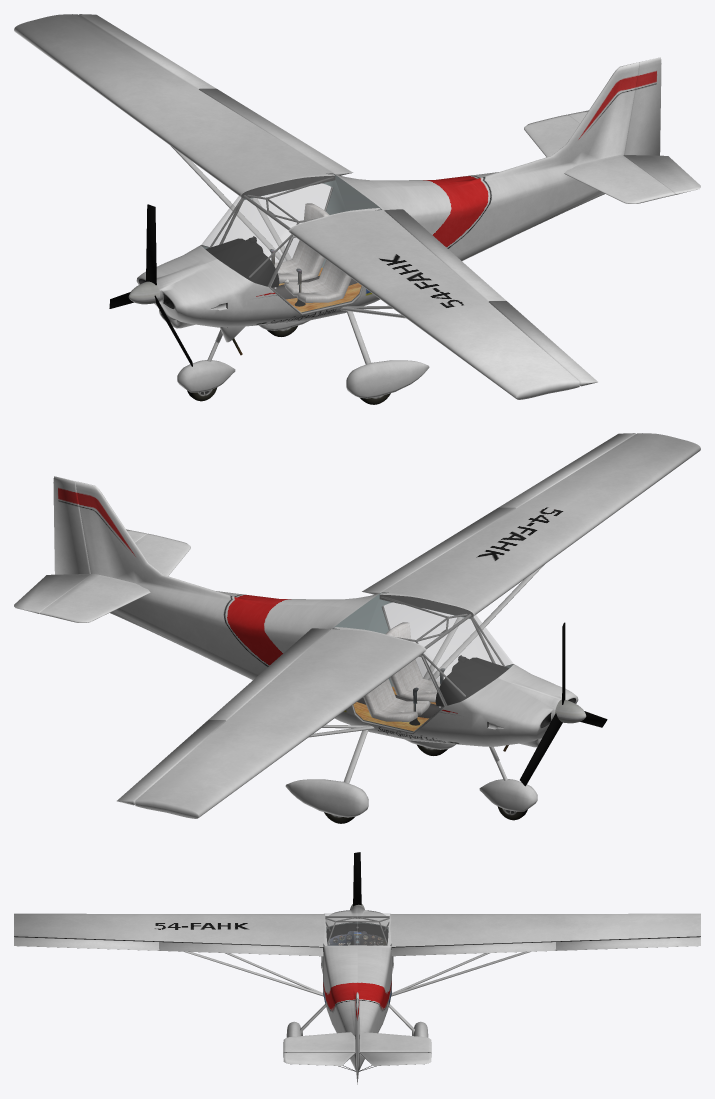
The model's file is super_guepard_912.glb.
3 renders of one model, top to bottom at view 1: azimuth 30°, elevation 25°; view 2: azimuth 150°, elevation 25°; view 3: azimuth 270°, elevation 25°, orthographic. The views are drawn at different scales.
Visible parts, largest first — view 1: Object_6, Object_5, Object_31, Object_23, Object_8, Object_20, Object_17; view 2: Object_6, Object_5, Object_31, Object_23, Object_8, Object_20, Object_17; view 3: Object_6, Object_5, Object_31, Object_8, Object_20, Object_2.
Boxes of the visible parts, x1,y1,x2,y2 form: Object_6: (14, 14, 700, 399); Object_5: (79, 14, 674, 386); Object_31: (201, 173, 381, 313); Object_23: (274, 203, 351, 302); Object_8: (128, 177, 363, 315); Object_20: (205, 238, 357, 299); Object_17: (201, 173, 381, 312); Object_6: (14, 433, 700, 818); Object_5: (40, 433, 635, 817); Object_31: (333, 592, 513, 732); Object_23: (363, 622, 440, 721); Object_8: (351, 596, 586, 734); Object_20: (357, 657, 509, 718); Object_17: (333, 592, 513, 731); Object_6: (14, 852, 700, 1069); Object_5: (14, 905, 700, 1084); Object_31: (321, 913, 393, 969); Object_8: (321, 904, 393, 1071); Object_20: (326, 923, 388, 941); Object_2: (327, 931, 387, 945).
Size of the model in its own units: 6 by 2.49 by 9.79.
Materials: 26 (24 with a texture image).
